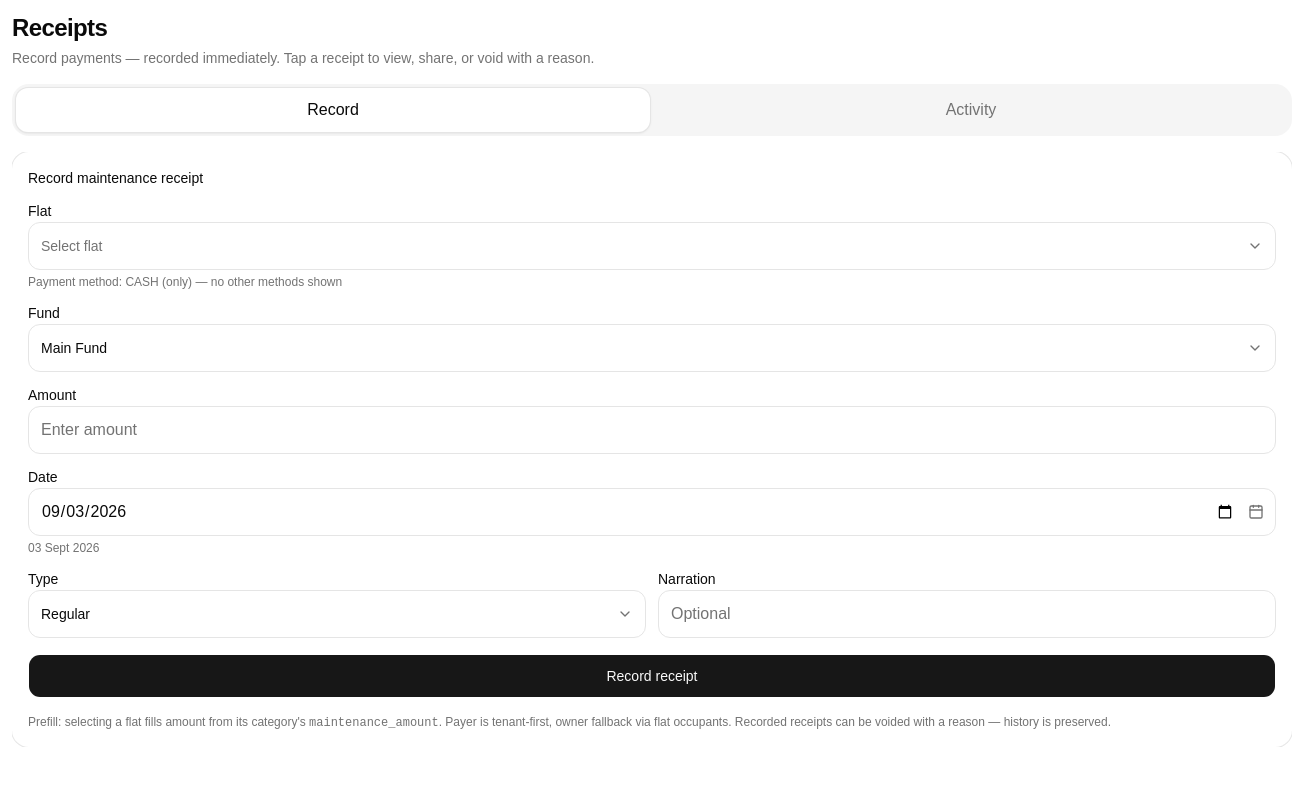
ReceiptsPage — Slice 2: Receipt Activity And Safe Corrections › activity rows show human-readable flat, formatted amount, date, and plain status — not UUID fragments
Click the tab "Activity" at (971, 110), box x1=654 y1=88 x2=1288 y2=132
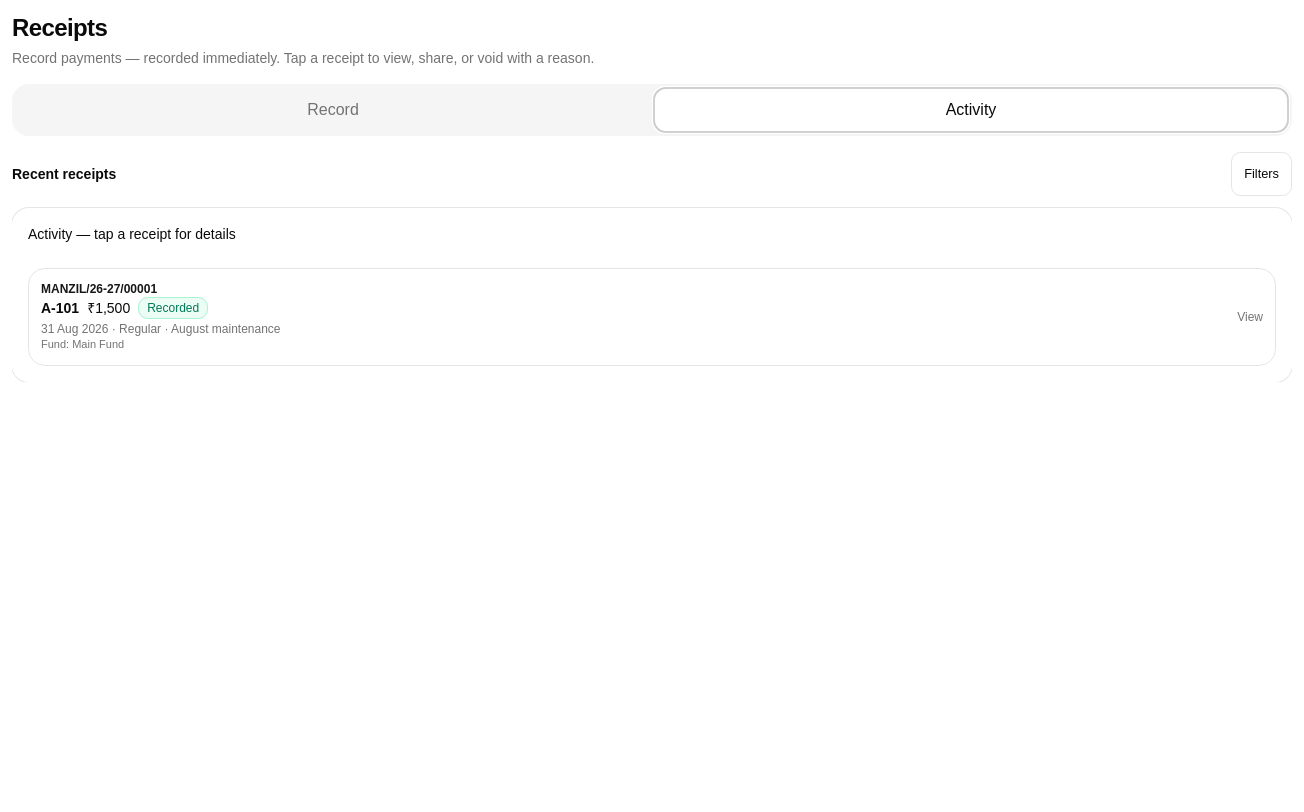
Now the text "A-101" is shown, box x1=41 y1=298 x2=79 y2=318
Now the text "₹1,500" is shown, box x1=87 y1=298 x2=130 y2=318
Now the text "31 Aug 2026 · Regular · August maintenance" is shown, box x1=41 y1=322 x2=280 y2=336
